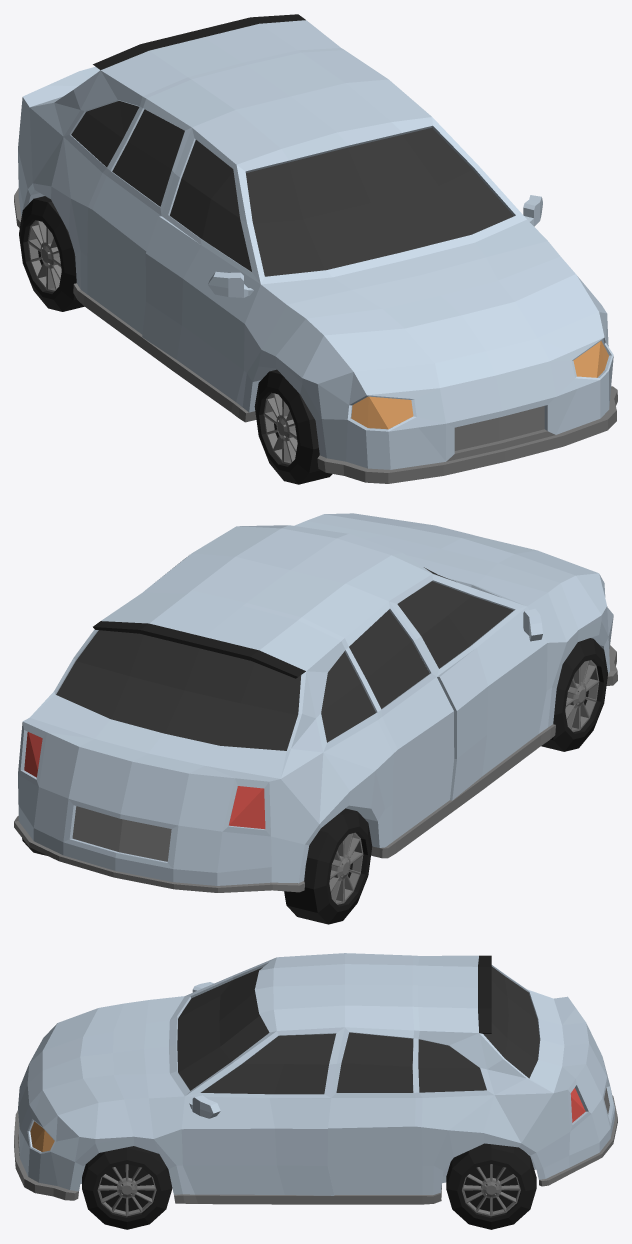
File: car2.glb
3 renders of one model, top to bottom at view 1: azimuth 30°, elevation 25°; view 2: azimuth 150°, elevation 25°; view 3: azimuth 270°, elevation 25°, orthographic. The views are drawn at different scales.
Visible parts, largest first — view 1: NormalCar2, NormalCar2_FrontRightWheel, NormalCar2_BackWheels; view 2: NormalCar2, NormalCar2_BackWheels, NormalCar2_FrontRightWheel; view 3: NormalCar2, NormalCar2_BackWheels, NormalCar2_FrontLeftWheel.
Part boxes in pixels (x1,y1,x2,y2): NormalCar2: [14, 14, 617, 483]; NormalCar2_FrontRightWheel: [254, 369, 332, 484]; NormalCar2_BackWheels: [19, 196, 84, 311]; NormalCar2: [14, 513, 617, 892]; NormalCar2_BackWheels: [22, 808, 372, 924]; NormalCar2_FrontRightWheel: [541, 638, 607, 751]; NormalCar2: [14, 953, 617, 1204]; NormalCar2_BackWheels: [446, 1143, 536, 1229]; NormalCar2_FrontLeftWheel: [82, 1146, 172, 1229].
Bounding box in the file's own units: 1.64 × 1.15 × 3.31.
